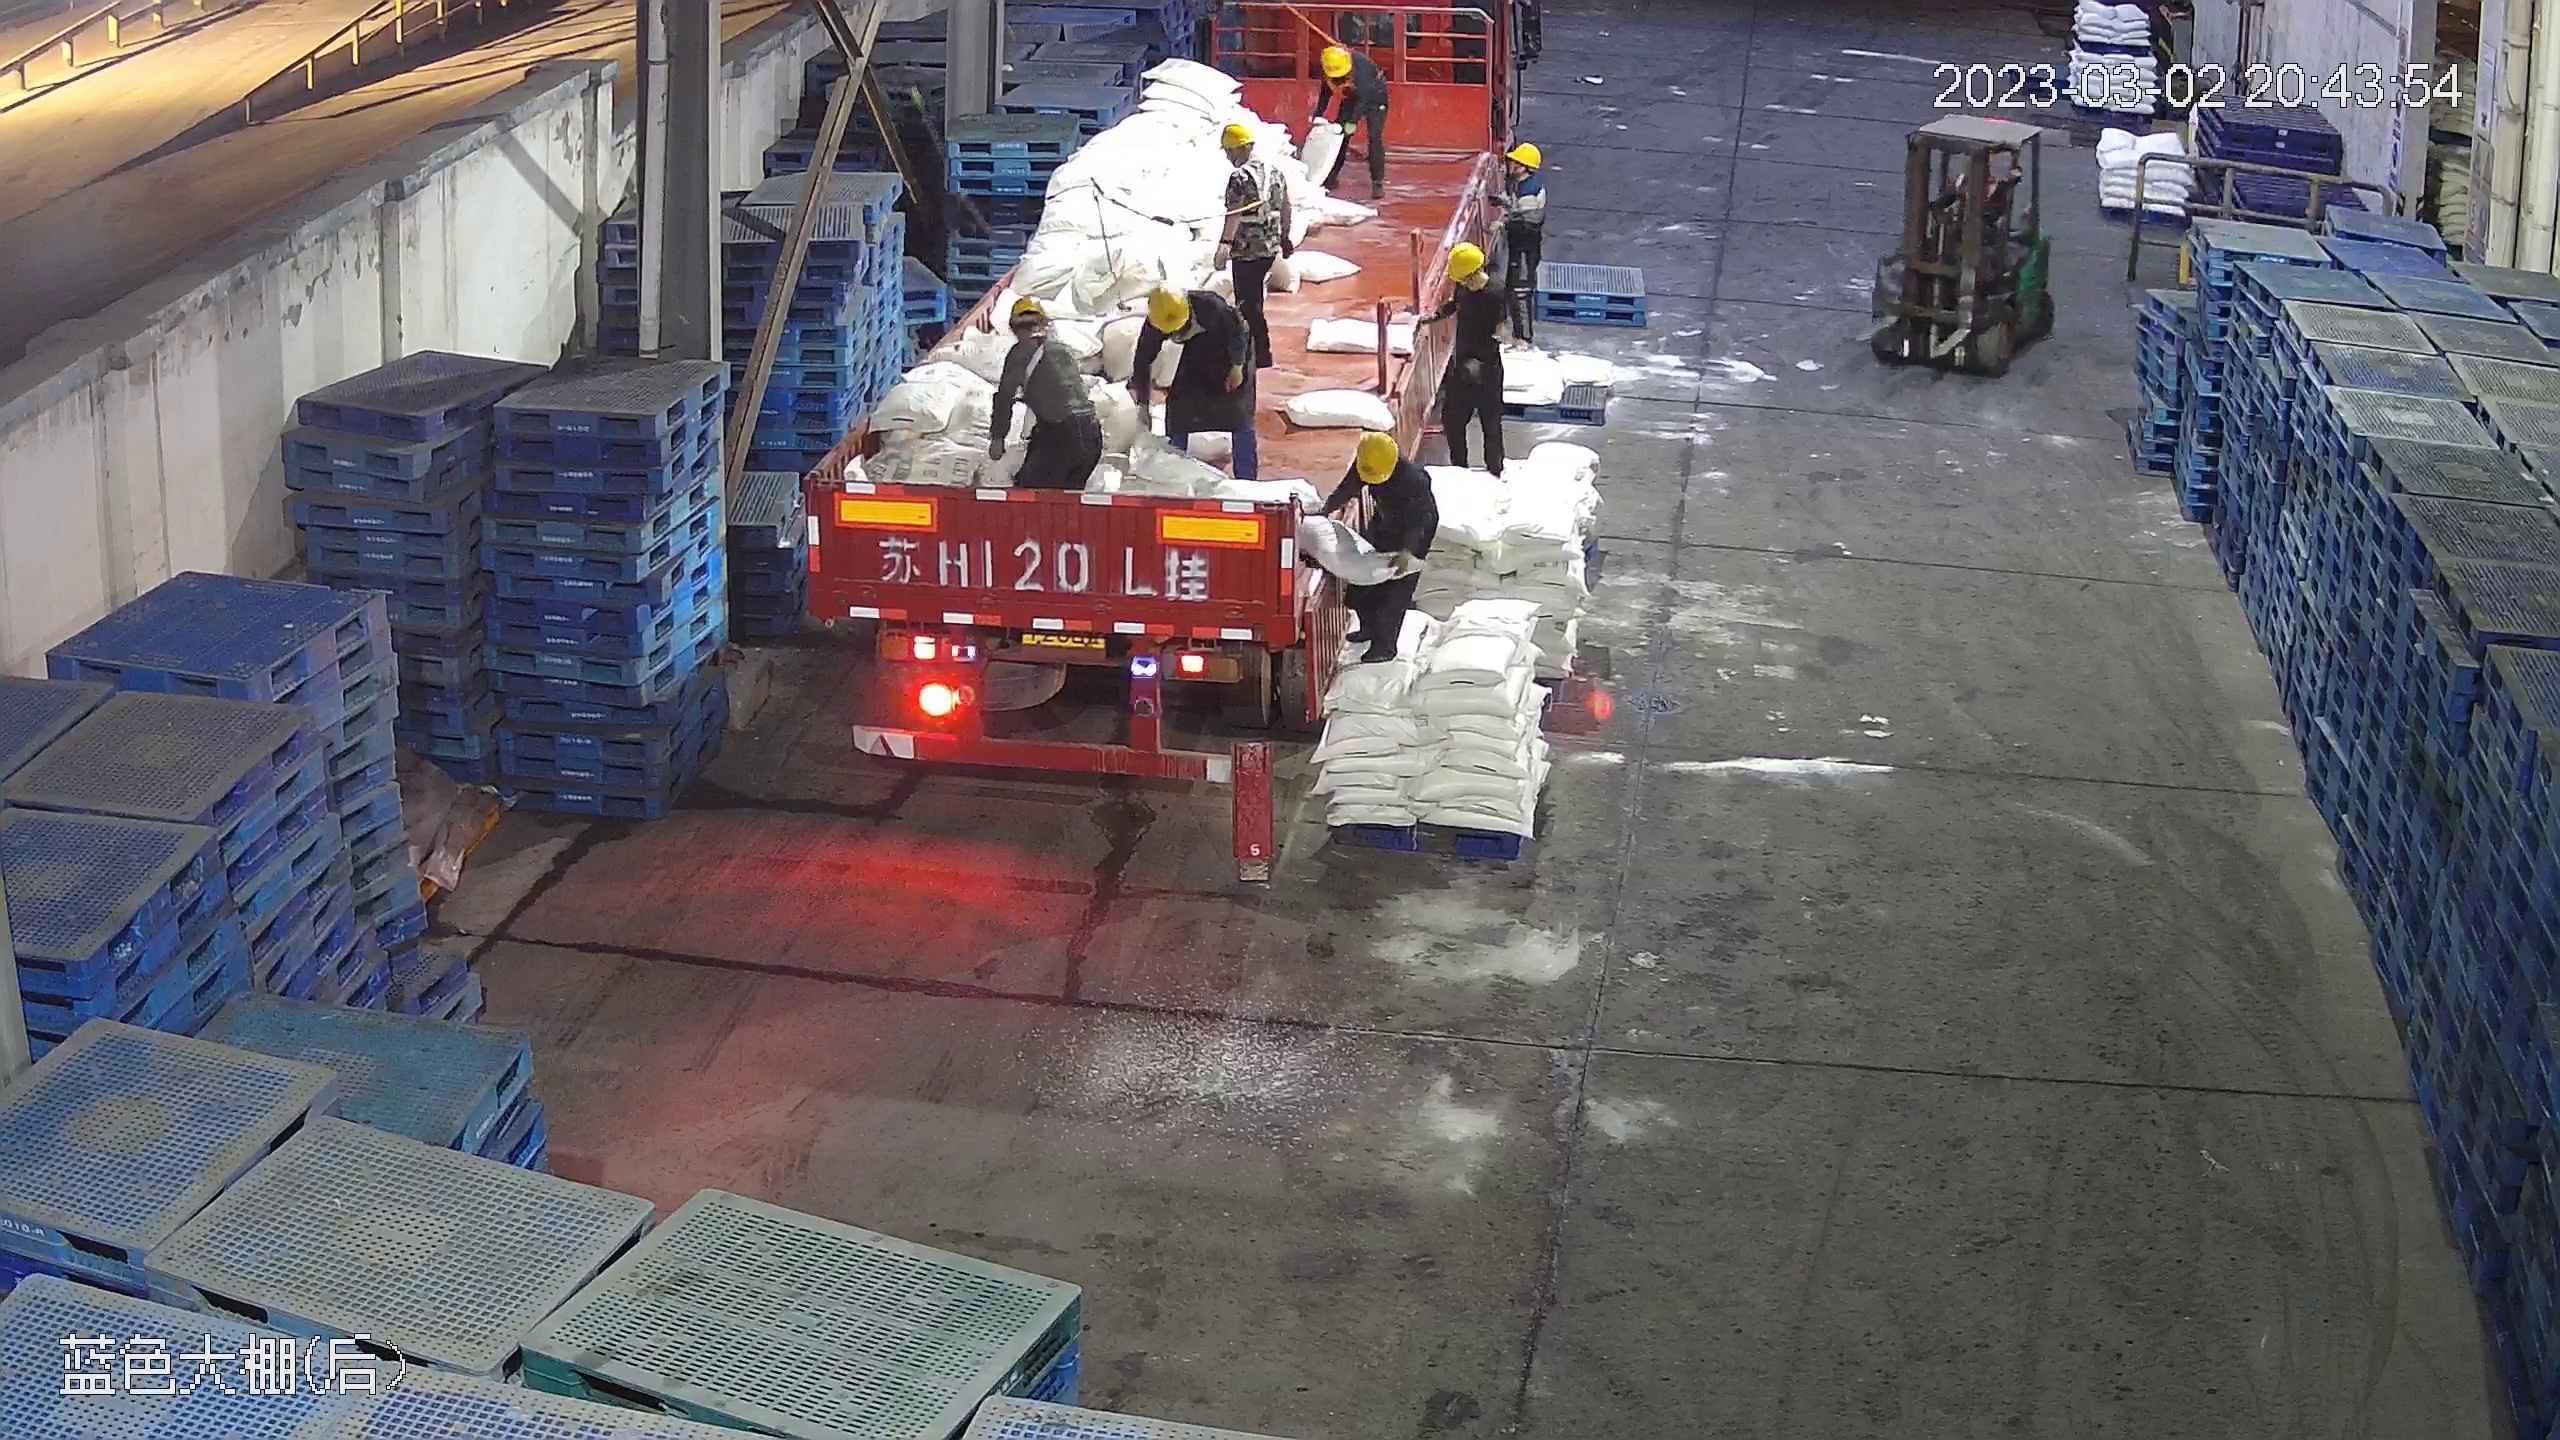belt: (1227, 157, 1286, 220), (1017, 324, 1070, 380), (1170, 313, 1206, 343), (1323, 71, 1358, 98), (1323, 35, 1356, 53)
head: (999, 295, 1084, 383), (1337, 427, 1430, 507), (1139, 283, 1234, 360), (1435, 241, 1507, 324), (1216, 115, 1277, 197), (1484, 141, 1540, 209), (1310, 41, 1377, 97)
helmet: (1353, 428, 1401, 483), (1145, 284, 1189, 334), (1442, 240, 1487, 280), (1007, 295, 1050, 326), (1318, 39, 1351, 76), (1217, 117, 1256, 147), (1510, 143, 1539, 170)
people: (1320, 426, 1437, 668), (985, 291, 1105, 495), (1129, 277, 1258, 468), (1424, 240, 1513, 479), (1208, 115, 1289, 362), (1483, 137, 1551, 339), (1306, 39, 1389, 203)
truck: (800, 36, 1460, 784)
